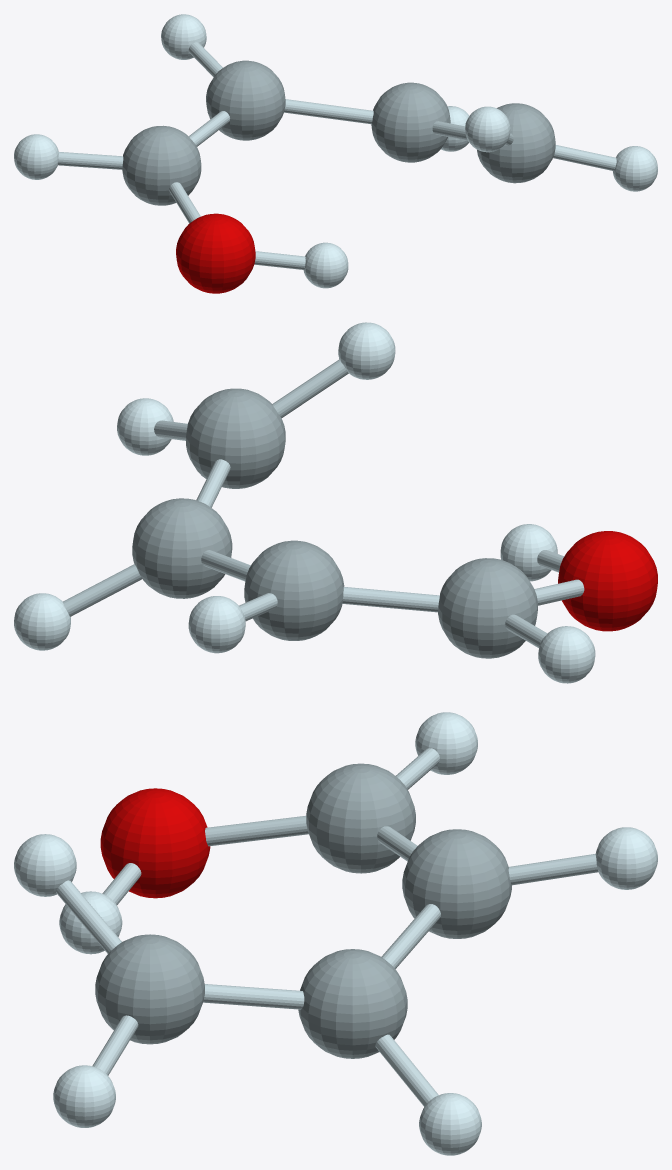
File: irc_081.glb
3 renders of one model, top to bottom at view 1: azimuth 30°, elevation 25°; view 2: azimuth 150°, elevation 25°; view 3: azimuth 270°, elevation 25°, orthographic. The views are drawn at different scales.
Parts seen in each view (by area): view 1: Renderer Node; view 2: Renderer Node; view 3: Renderer Node.
Part boxes in pixels (box(x1,y1,x2,y2)): Renderer Node: box(14, 14, 657, 293); Renderer Node: box(14, 322, 657, 683); Renderer Node: box(14, 712, 657, 1155).
Bounding box in the file's own units: 5.11 × 1.7 × 4.09.
